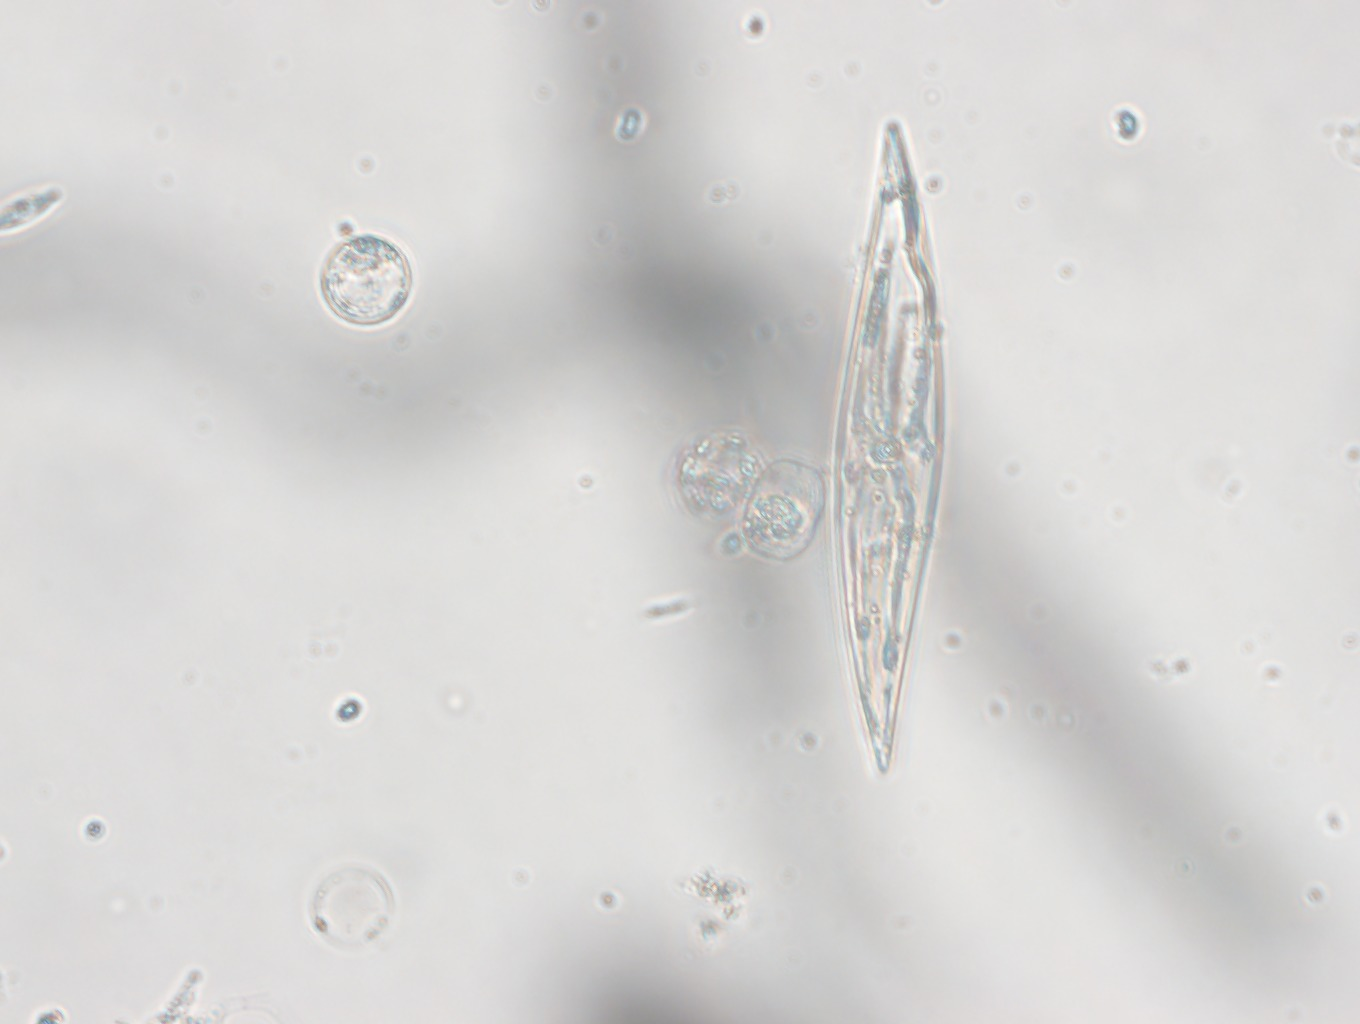pleurosigma pelagicum: (822, 93, 967, 785)
